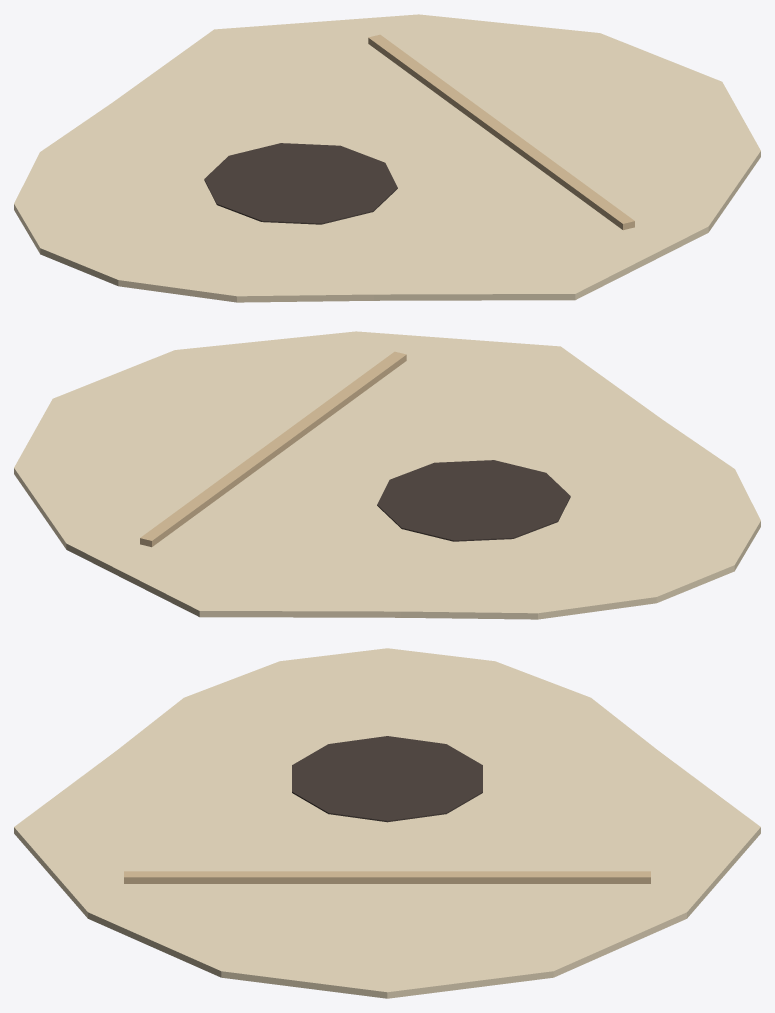
The model's file is prop-soundboard-blank.fbx.
3 renders of one model, top to bottom at view 1: azimuth 30°, elevation 25°; view 2: azimuth 150°, elevation 25°; view 3: azimuth 270°, elevation 25°, orthographic. The views are drawn at different scales.
Visible parts, largest first — view 1: prop-soundboard-blank; view 2: prop-soundboard-blank; view 3: prop-soundboard-blank.
Boxes of the visible parts, box(x1,y1,x2,y2) form: prop-soundboard-blank: box(14, 14, 760, 302); prop-soundboard-blank: box(14, 331, 760, 619); prop-soundboard-blank: box(14, 648, 760, 998).
Bounding box in the file's own units: 34 × 0.6 × 31.2.
